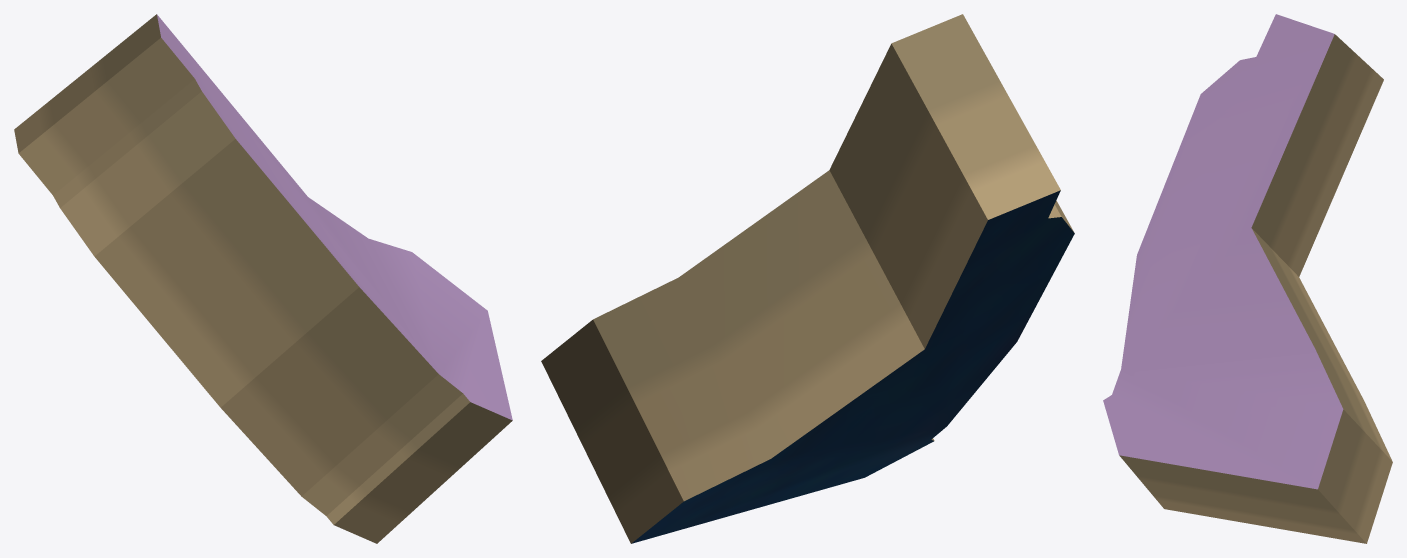
Rendered from 060f_Yemen.glb.
3 views of the same model, side by side, from view 1: azimuth 30°, elevation 25°; view 2: azimuth 150°, elevation 25°; view 3: azimuth 270°, elevation 25° (orthographic). The views are drawn at different scales.
Visible parts, largest first — view 1: part_0; view 2: part_0; view 3: part_0.
Boxes of the visible parts, box(x1,y1,x2,y2) form: part_0: box(14, 14, 512, 543); part_0: box(541, 14, 1074, 543); part_0: box(1103, 14, 1392, 543).
Bounding box in the file's own units: 0.5746 × 0.5851 × 0.3567.
Materials: 1 (1 with a texture image).
